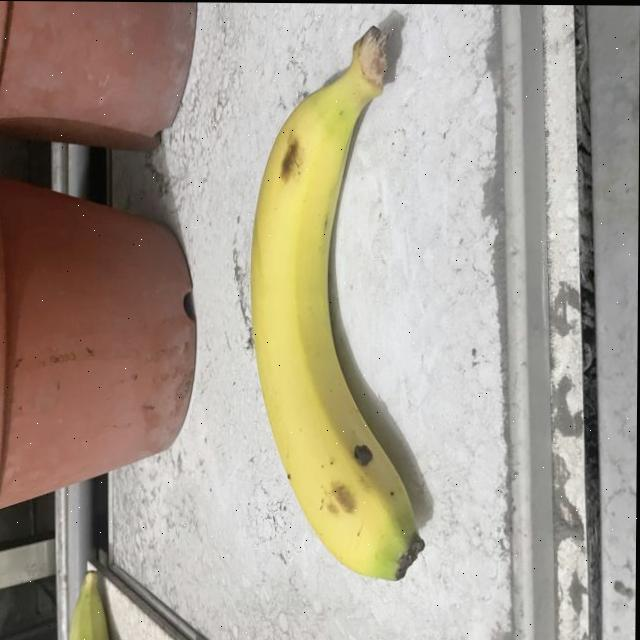banana: (242, 23, 427, 586)
